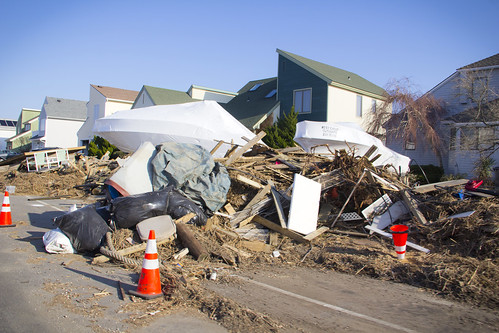building: (228, 59, 389, 168), (409, 63, 499, 192), (29, 89, 89, 169)
sky: (1, 1, 451, 88)
traffic cone: (128, 230, 170, 304), (386, 223, 414, 261), (1, 186, 15, 229)
trash: (65, 105, 499, 333)
